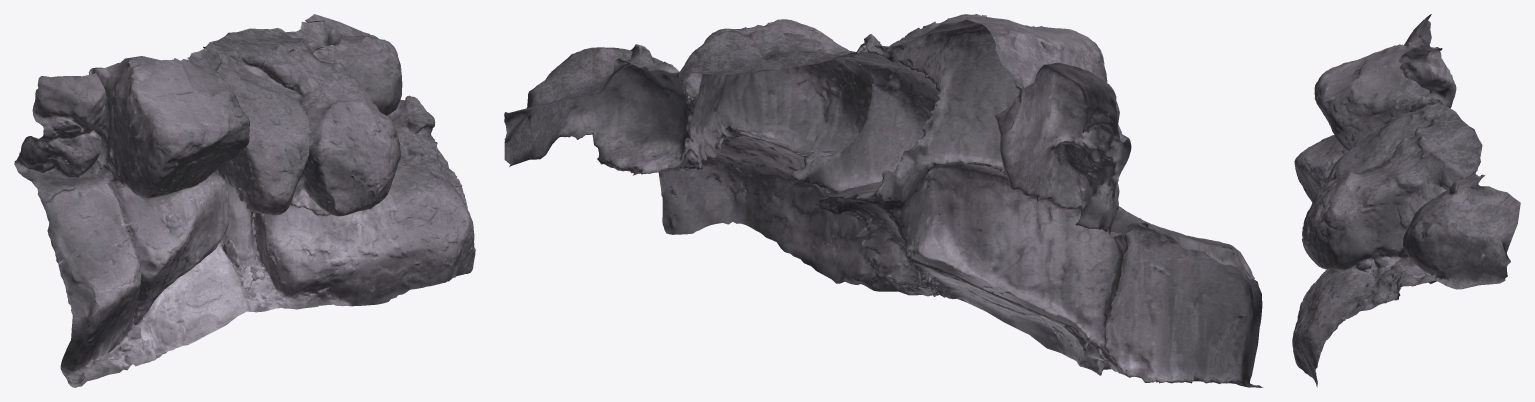
The model's file is namaqualand_cliff_01.gltf.
3 renders of one model, left to right at view 1: azimuth 30°, elevation 25°; view 2: azimuth 150°, elevation 25°; view 3: azimuth 270°, elevation 25°, orthographic. The views are drawn at different scales.
Parts seen in each view (by area): view 1: drone_rock_01; view 2: drone_rock_01; view 3: drone_rock_01.
Part boxes in pixels (x1,y1,x2,y2): drone_rock_01: (14,14,475,387); drone_rock_01: (504,14,1263,387); drone_rock_01: (1292,14,1520,387).
Bounding box in the file's own units: 8.28 × 4.96 × 4.39.
1 material, 1 textured.
